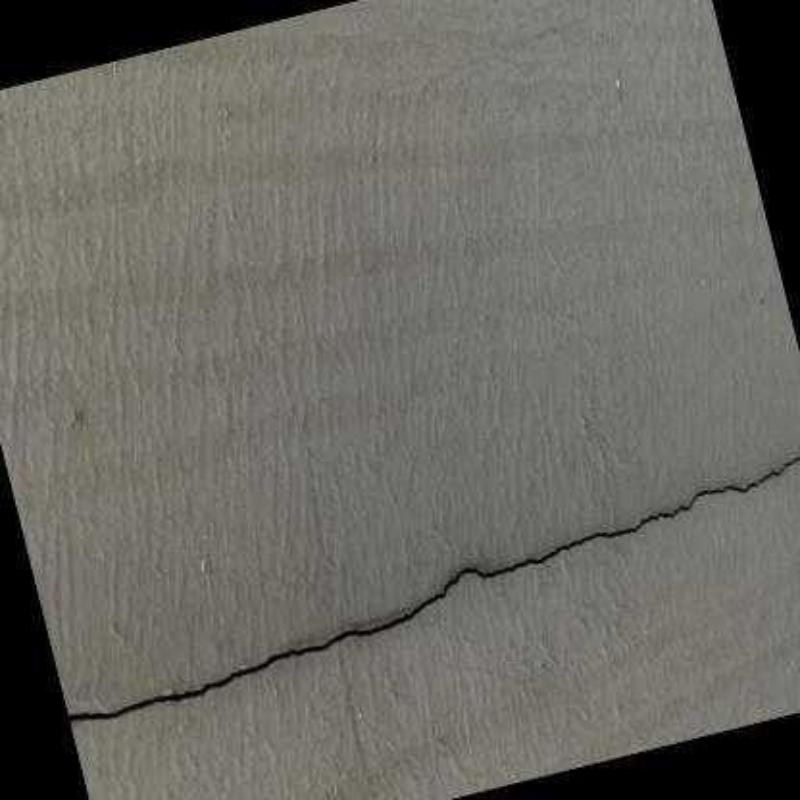crack: (66, 454, 799, 722)
